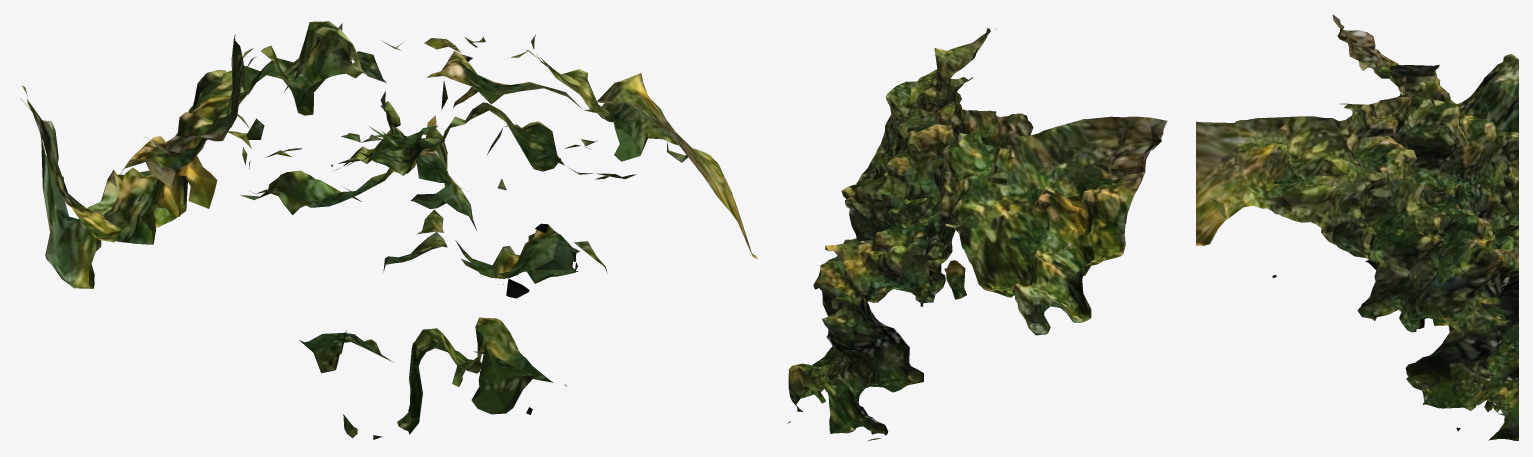
3 renders of one model, left to right at view 1: azimuth 30°, elevation 25°; view 2: azimuth 150°, elevation 25°; view 3: azimuth 270°, elevation 25°, orthographic. The views are drawn at different scales.
Size of the model in its own units: 3.35 by 3.35 by 3.35.
Materials: 4 (4 with a texture image).
